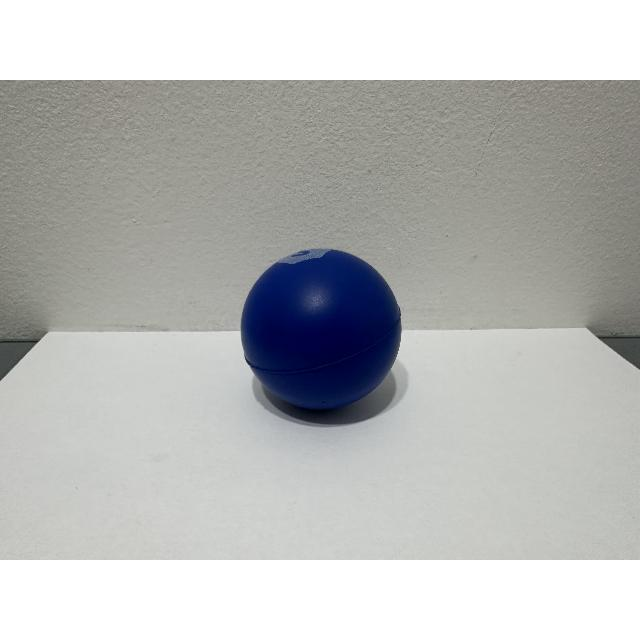blue_ball: (218, 230, 436, 450)
